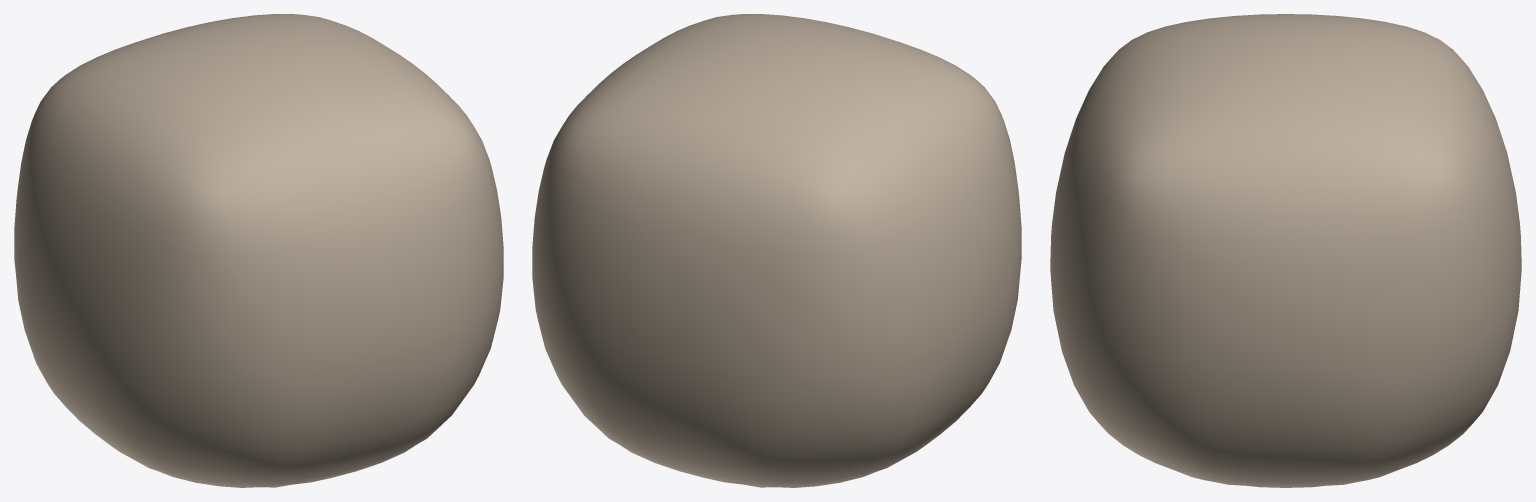
The model's file is Pouf2_12.fbx.
3 renders of one model, left to right at view 1: azimuth 30°, elevation 25°; view 2: azimuth 150°, elevation 25°; view 3: azimuth 270°, elevation 25°, orthographic.
Visible parts, largest first — view 1: pCube2908; view 2: pCube2908; view 3: pCube2908.
Boxes of the visible parts, x1,y1,x2,y2 form: pCube2908: (14, 14, 503, 487); pCube2908: (532, 14, 1021, 487); pCube2908: (1050, 14, 1521, 487).
Bounding box in the file's own units: 32.68 × 31.09 × 32.67.
